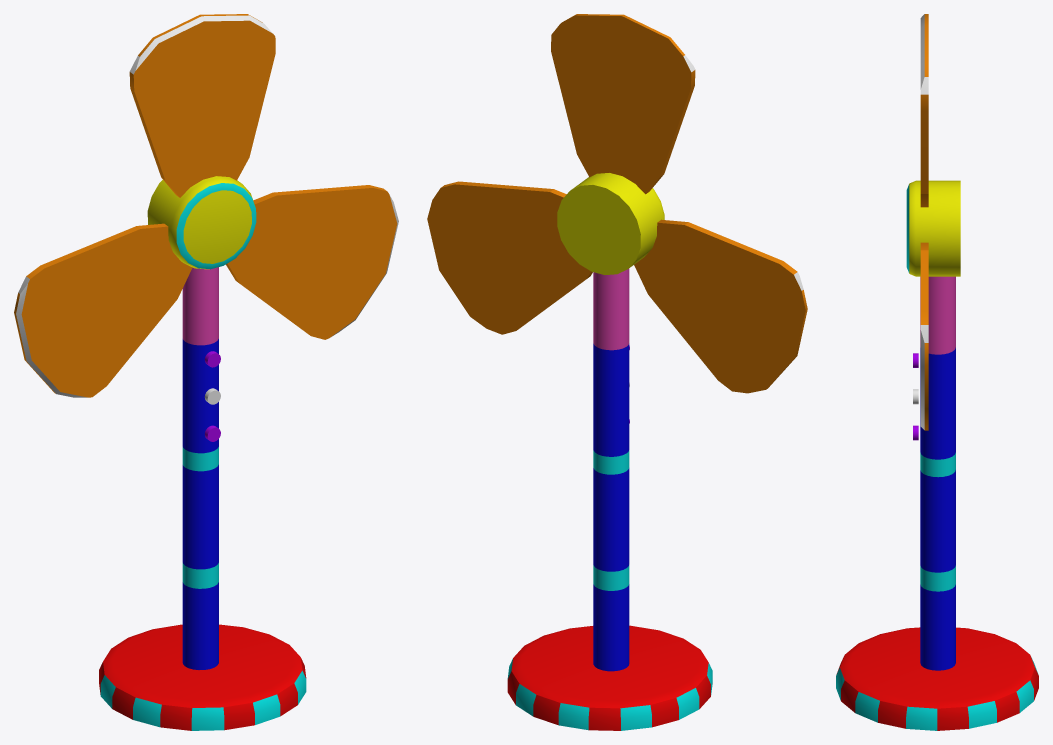
The model's file is fan.fbx.
3 renders of one model, left to right at view 1: azimuth 30°, elevation 25°; view 2: azimuth 150°, elevation 25°; view 3: azimuth 270°, elevation 25°, orthographic. The views are drawn at different scales.
Parts seen in each view (by area): view 1: pCube8, pCylinder3, pCylinder2, pCylinder1; view 2: pCube8, pCylinder3, pCylinder2, pCylinder1; view 3: pCylinder3, pCylinder2, pCylinder1, pCube8.
Boxes of the visible parts, box(x1,y1,x2,y2) form: pCube8: box(14, 14, 398, 397); pCylinder3: box(99, 624, 306, 730); pCylinder2: box(182, 267, 218, 669); pCylinder1: box(147, 176, 256, 269); pCube8: box(427, 14, 807, 393); pCylinder3: box(507, 625, 712, 730); pCylinder2: box(593, 268, 629, 671); pCylinder1: box(557, 173, 664, 274); pCylinder3: box(836, 627, 1038, 730); pCylinder2: box(920, 276, 955, 670); pCylinder1: box(906, 180, 960, 276); pCube8: box(920, 14, 928, 430).
Size of the model in its own units: 4.08 by 6.89 by 1.92.
